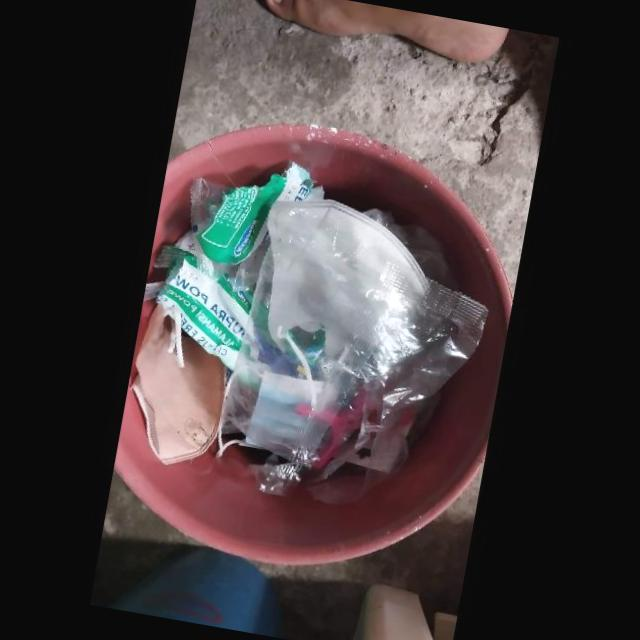goi_nhua_nho: (189, 161, 326, 290)
khau_trang: (268, 199, 430, 361), (130, 304, 225, 465), (215, 364, 326, 456)
